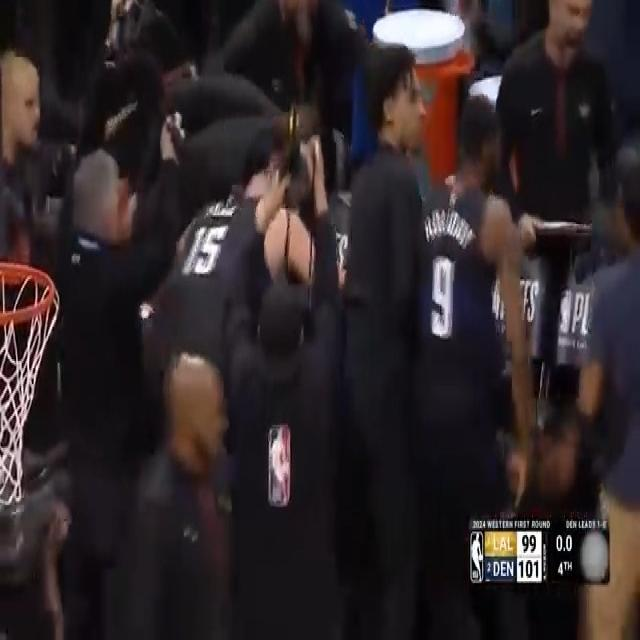hoop: (0, 259, 60, 506)
